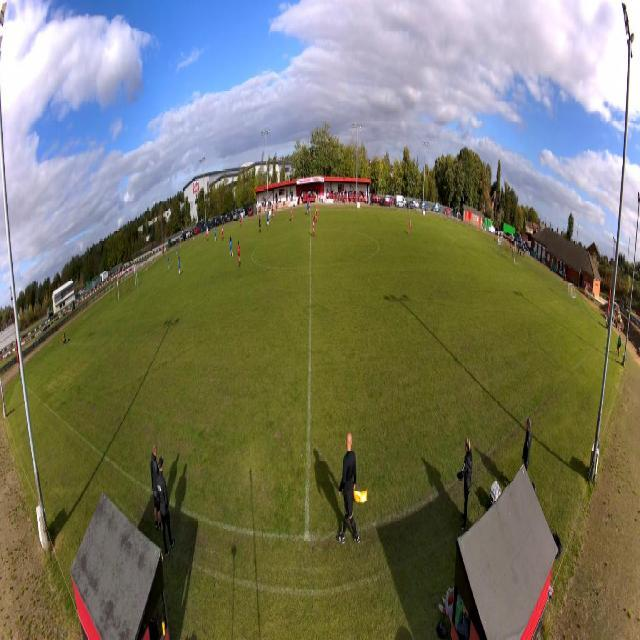ball: (204, 224, 205, 226)
player: (228, 236, 233, 260), (237, 241, 241, 268), (312, 214, 316, 238), (315, 205, 318, 224), (408, 216, 411, 235), (259, 215, 262, 233), (308, 198, 311, 215), (268, 210, 271, 227), (221, 225, 224, 242), (291, 206, 294, 222), (214, 226, 217, 242), (272, 205, 275, 219), (239, 214, 242, 228), (178, 255, 180, 276), (136, 270, 138, 288), (267, 210, 269, 227), (168, 255, 170, 272), (307, 200, 309, 216), (206, 228, 208, 242), (176, 242, 178, 256), (204, 225, 206, 239)
